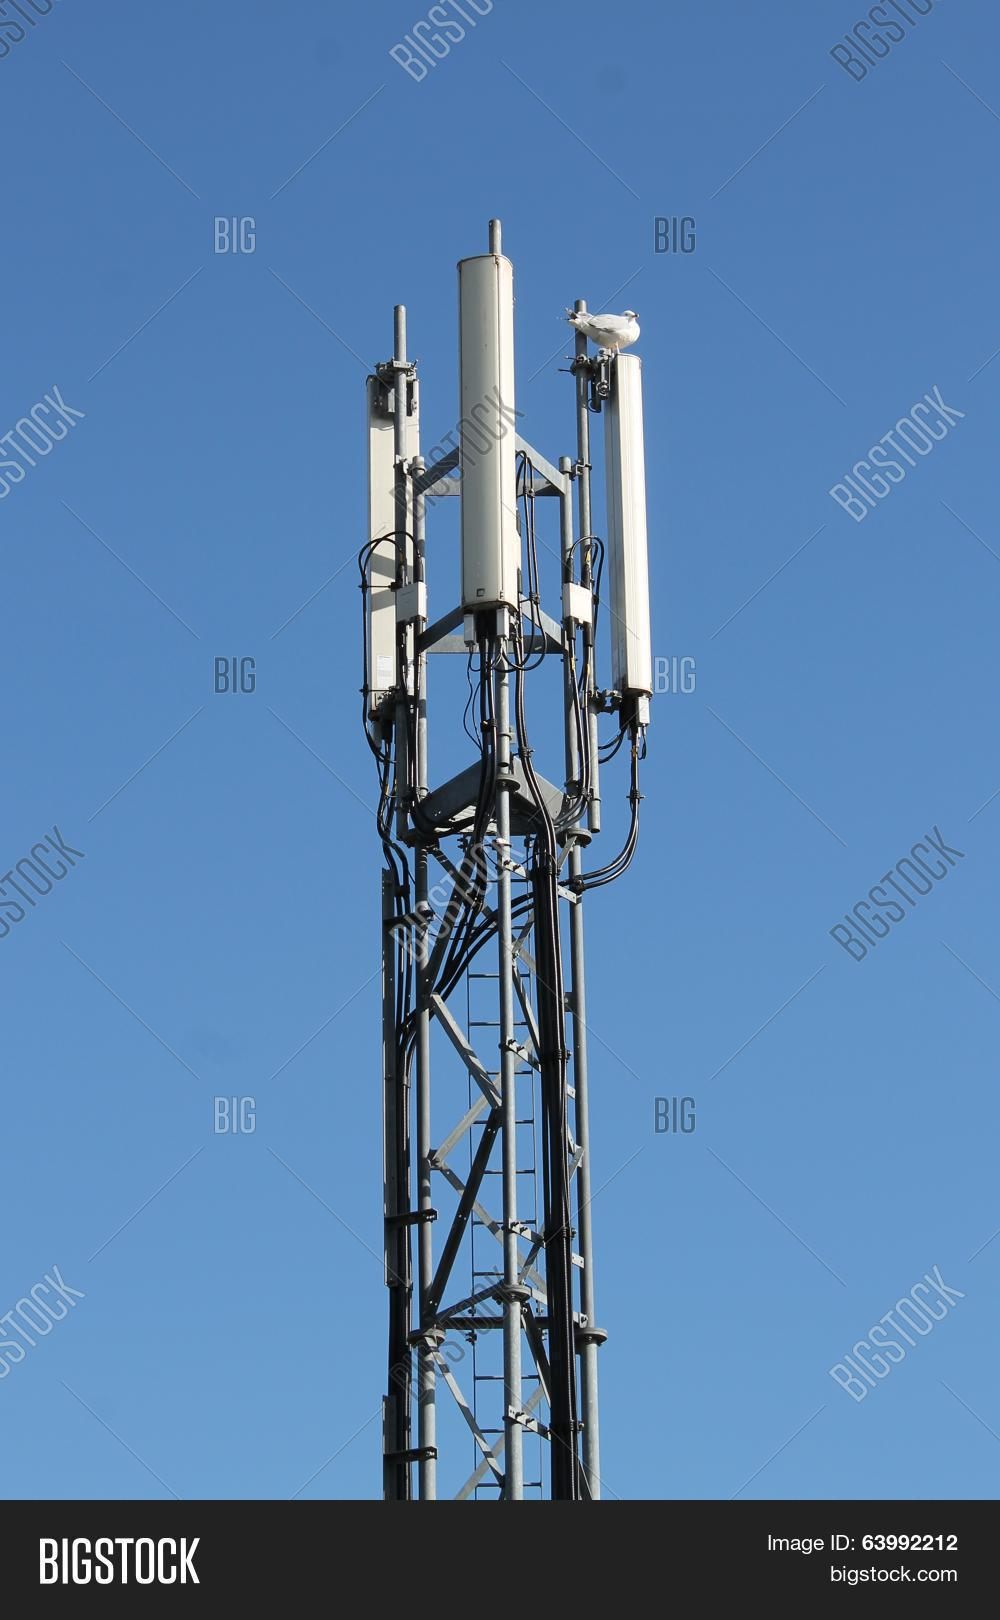sa: (424, 228, 544, 720), (588, 272, 690, 756), (347, 343, 435, 797)
